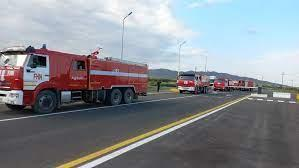Fire-engine: (0, 40, 146, 106)
